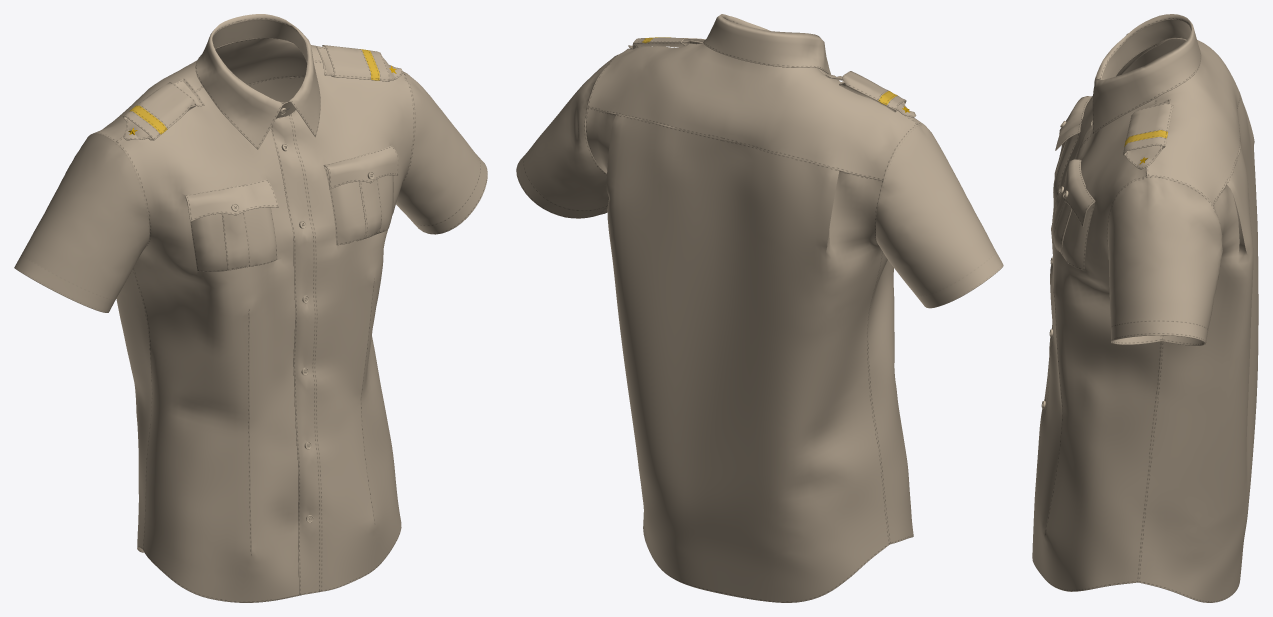
The model's file is shirt.gltf.
The picture shows the model from 3 angles, left to right: view 1: azimuth 30°, elevation 25°; view 2: azimuth 150°, elevation 25°; view 3: azimuth 270°, elevation 25°; orthographic projection. The views are drawn at different scales.
Parts seen in each view (by area): view 1: Cloth; view 2: Cloth; view 3: Cloth.
Part boxes in pixels (x1,y1,x2,y2): Cloth: (14,14,487,602); Cloth: (516,14,1003,602); Cloth: (1032,14,1258,602).
Bounding box in the file's own units: 69.53 × 77.19 × 29.27.
Materials: 4 (4 with a texture image).
